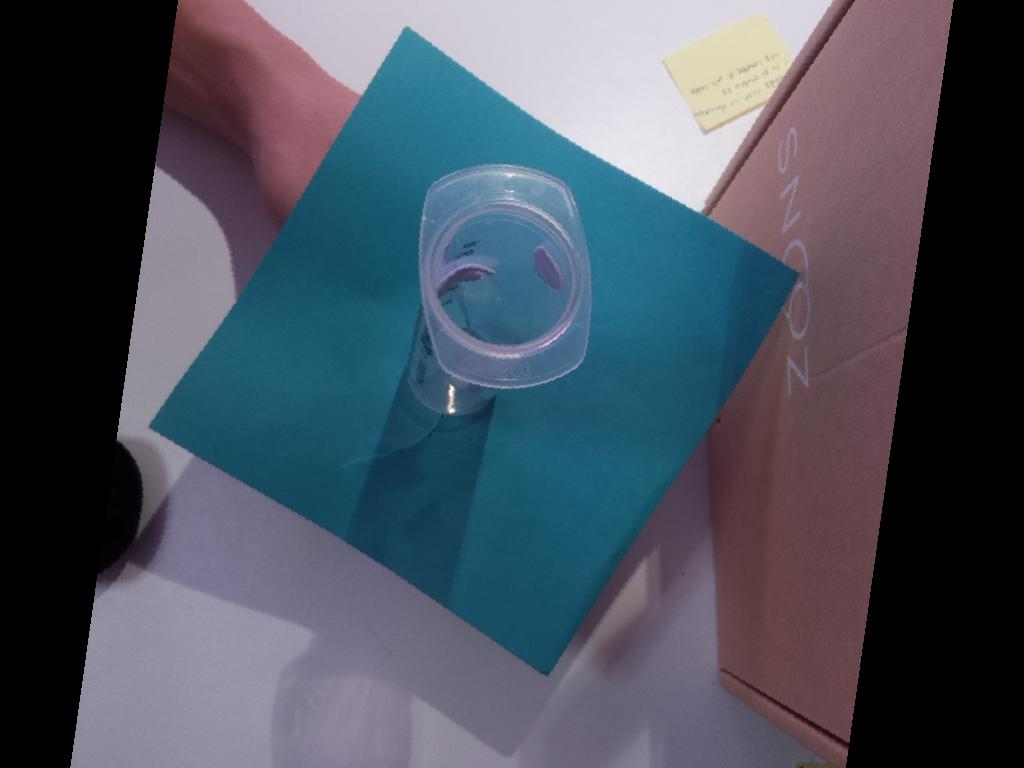dirty: (415, 162, 593, 391)
